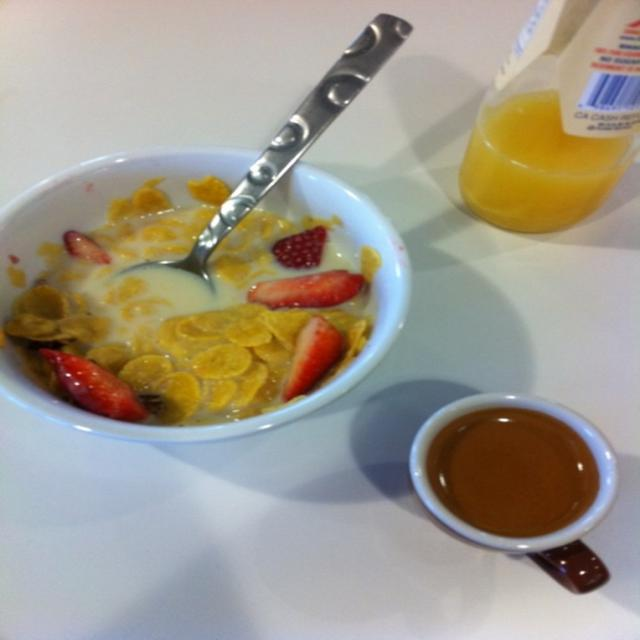Tea: (426, 414, 600, 540)
